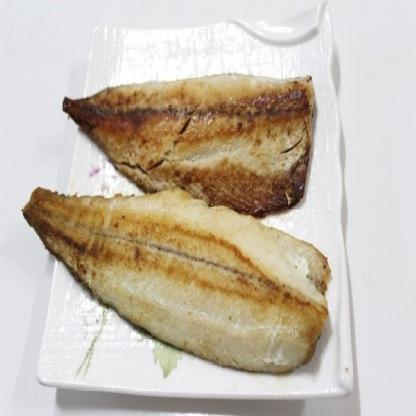Peixe: (15, 49, 335, 400)
